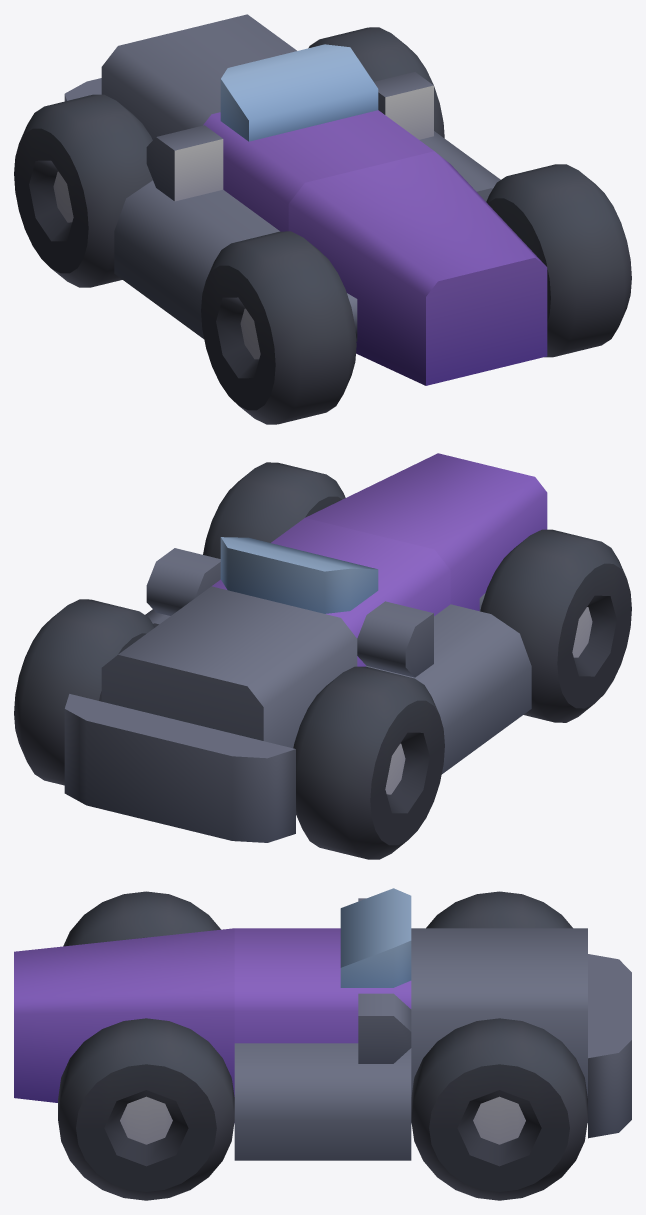
The model's file is toy-vintage-racer.glb.
3 renders of one model, top to bottom at view 1: azimuth 30°, elevation 25°; view 2: azimuth 150°, elevation 25°; view 3: azimuth 270°, elevation 25°, orthographic. The views are drawn at different scales.
Parts seen in each view (by area): view 1: vehicle-vintage-racer, wheel-bl, wheel-fl, wheel-br, wheel-fr; view 2: vehicle-vintage-racer, wheel-fl, wheel-bl, wheel-fr, wheel-br; view 3: vehicle-vintage-racer, wheel-fr, wheel-br, wheel-bl, wheel-fl.
Part boxes in pixels (x1,y1,x2,y2): vehicle-vintage-racer: (64,14,547,385); wheel-bl: (201,231,356,424); wheel-fl: (14,94,152,287); wheel-br: (486,164,631,357); wheel-fr: (308,27,444,138); vehicle-vintage-racer: (64,453,547,842); wheel-fl: (293,666,444,859); wheel-bl: (480,529,631,722); wheel-fr: (14,599,154,785); wheel-br: (203,462,345,558); vehicle-vintage-racer: (14,888,631,1160); wheel-fr: (411,1018,587,1200); wheel-br: (58,1018,234,1200); wheel-bl: (63,891,220,946); wheel-fl: (426,891,572,928).
Size of the model in its own units: 0.55 by 0.325 by 0.875.
